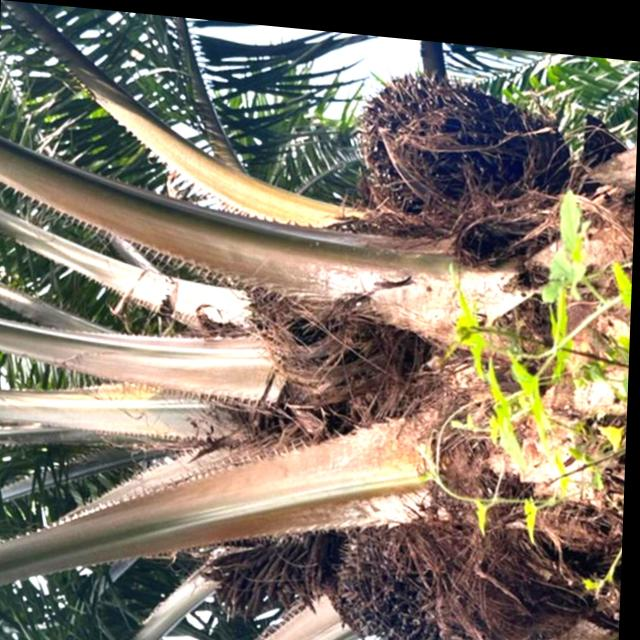unripe: (330, 496, 536, 640)
